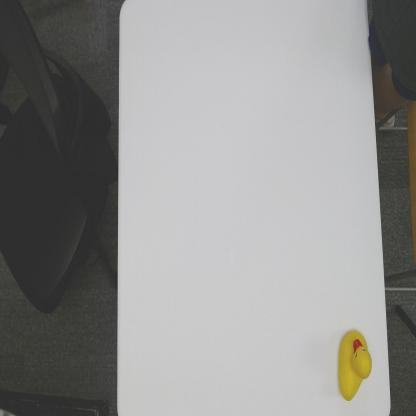Duck: (337, 327, 373, 403)
